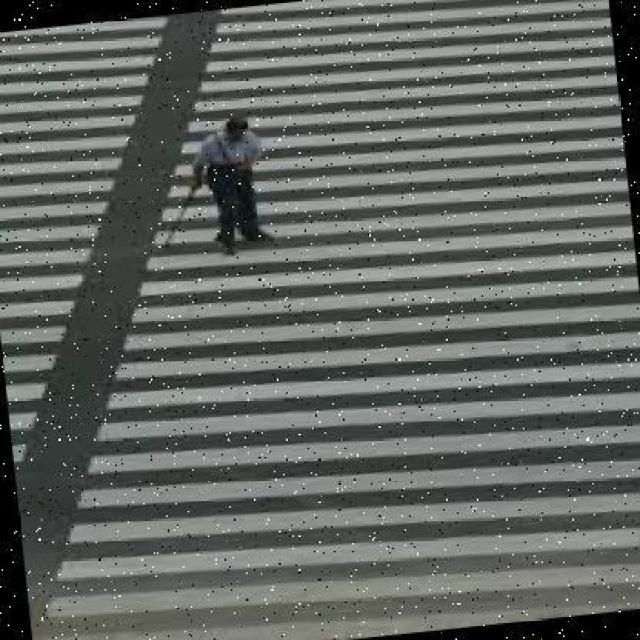Person: (149, 115, 274, 262)
